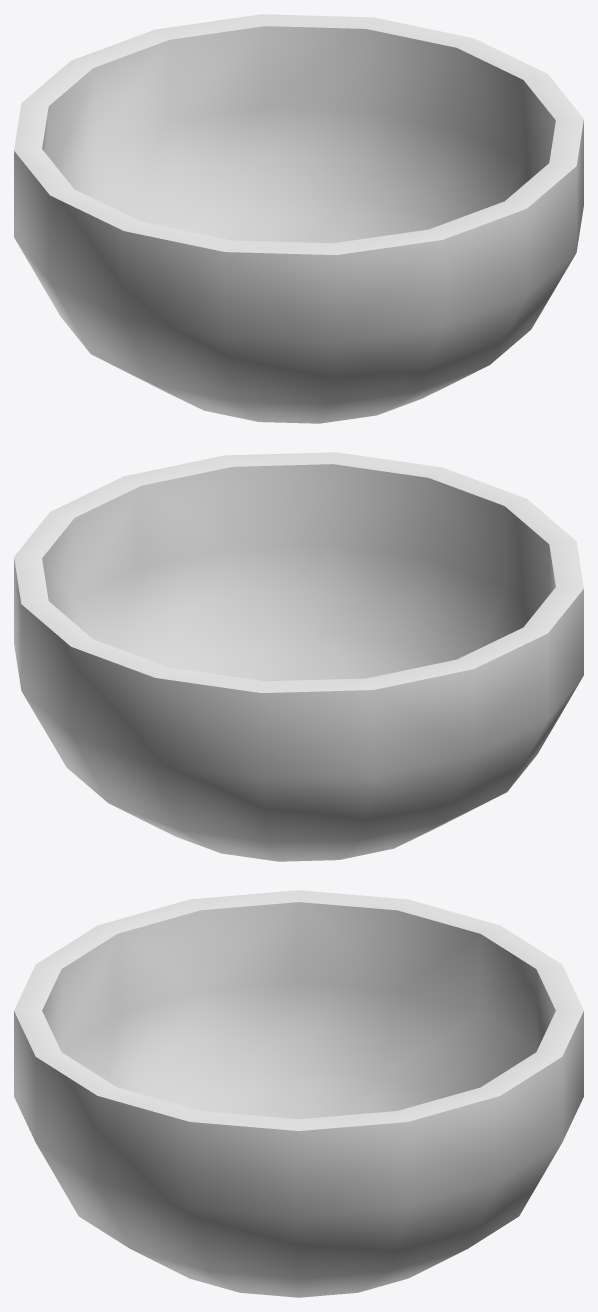
File: Bowl.fbx
The picture shows the model from 3 angles, top to bottom: view 1: azimuth 30°, elevation 25°; view 2: azimuth 150°, elevation 25°; view 3: azimuth 270°, elevation 25°; orthographic projection.
Parts seen in each view (by area): view 1: Glass Bowl.001; view 2: Glass Bowl.001; view 3: Glass Bowl.001.
Boxes of the visible parts, bbox=[...] form: Glass Bowl.001: bbox=[14, 14, 583, 423]; Glass Bowl.001: bbox=[14, 452, 583, 861]; Glass Bowl.001: bbox=[14, 890, 583, 1297].
Size of the model in its own units: 55.05 by 23.63 by 55.05.
Materials: 1 (1 with a texture image).
